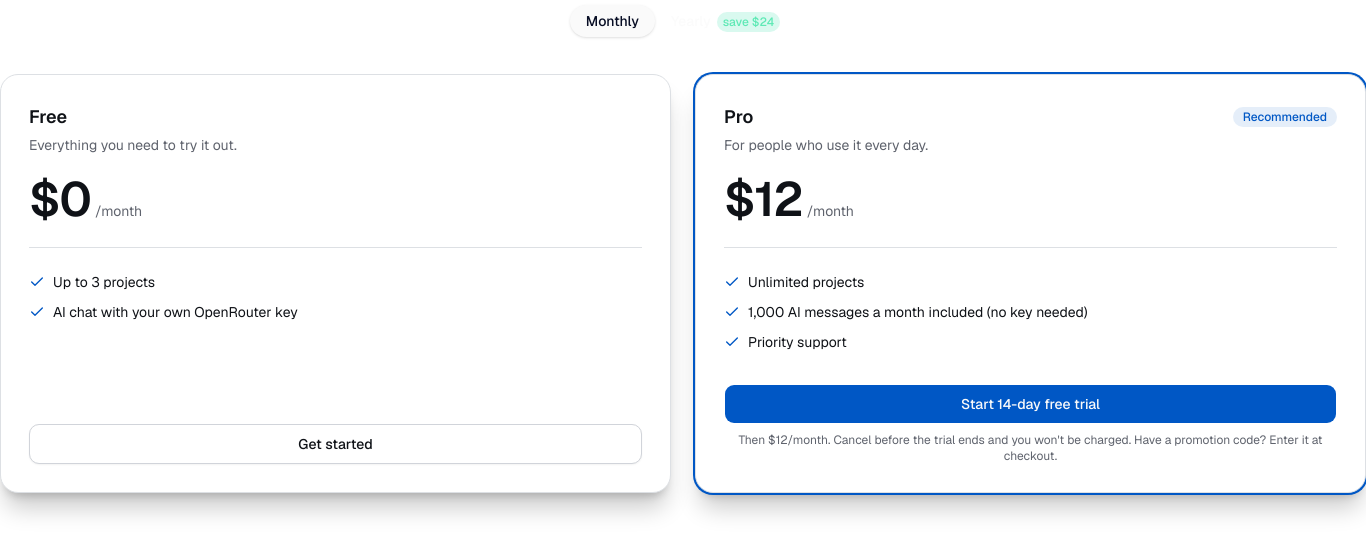
Test: PricingPlans › shows both plans with Pro's monthly price, and yearly after toggling
The width and height of the screenshot is (1366, 534).
expect the heading "Free" is shown: met, box [29,103,67,131]
expect the heading "Pro" is shown: met, box [724,103,753,131]
Click the button "Yearly": (726, 21) [655,5,796,37]
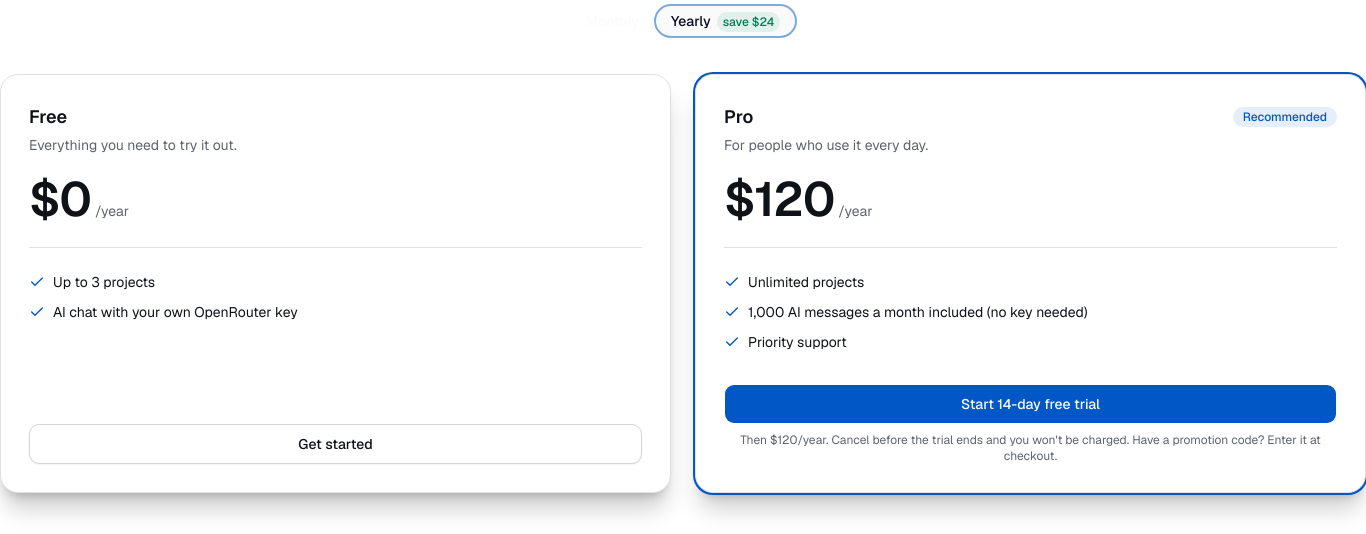
expect the text "$120" is shown: met, box [724,175,834,223]
